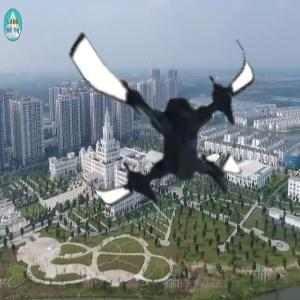drone: (49, 1, 273, 225)
